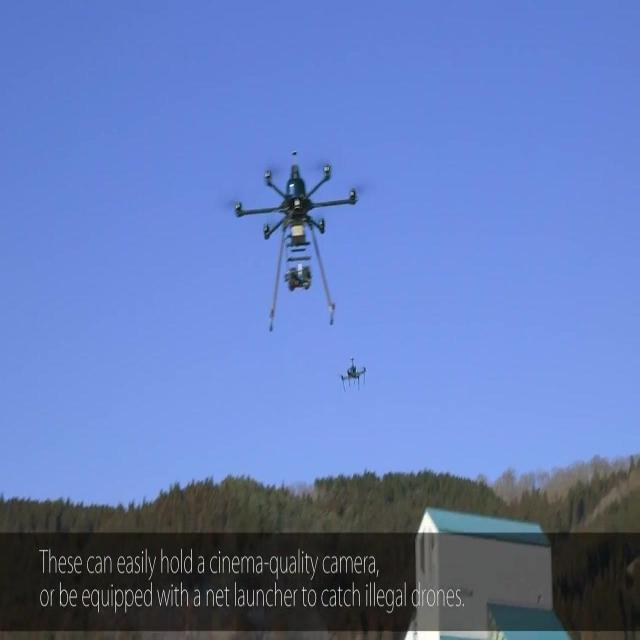drone: (233, 149, 365, 329), (338, 356, 368, 393)
